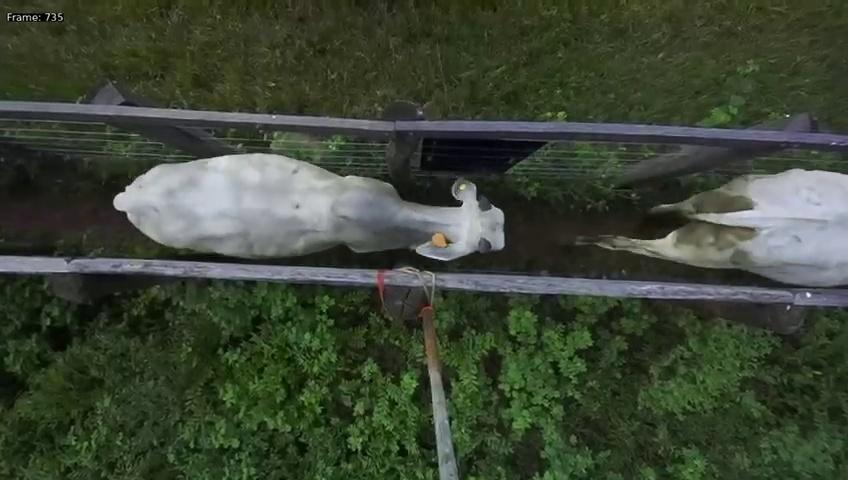cattle: (111, 131, 508, 263)
